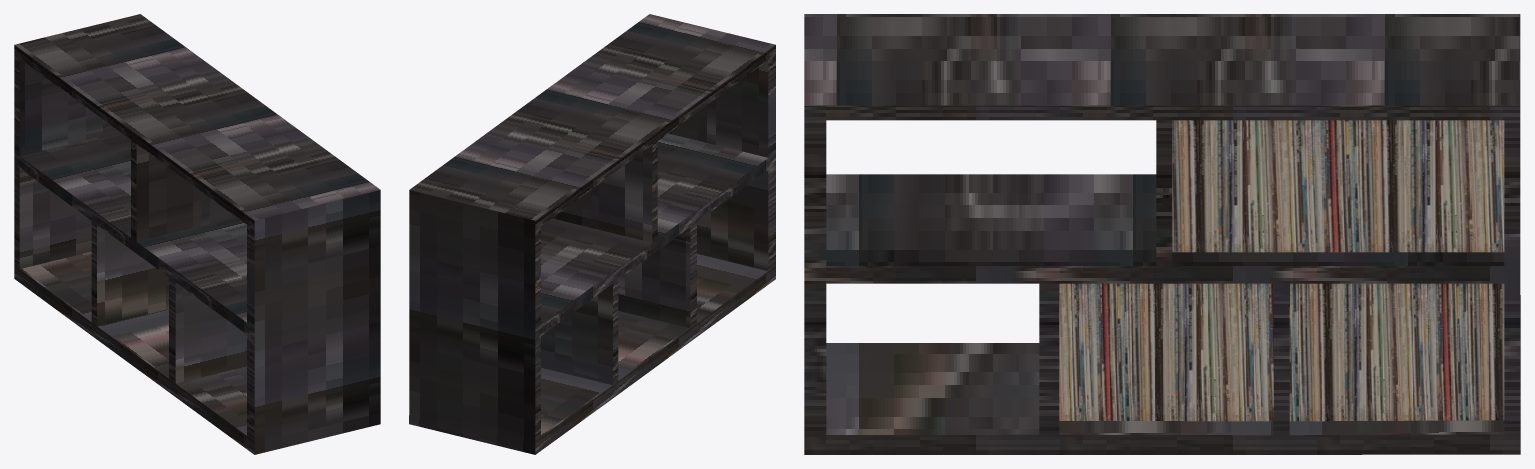
Rendered from bedroomshelves.glb.
The picture shows the model from 3 angles, left to right: view 1: azimuth 30°, elevation 25°; view 2: azimuth 150°, elevation 25°; view 3: azimuth 270°, elevation 25°; orthographic projection. The views are drawn at different scales.
Parts seen in each view (by area): view 1: Cube; view 2: Cube; view 3: Cube.
Part boxes in pixels (x1,y1,x2,y2): Cube: [14, 14, 380, 454]; Cube: [409, 14, 775, 454]; Cube: [804, 14, 1520, 454].
Bounding box in the file's own units: 2.95 × 5.24 × 9.74.
3 materials, 3 textured.
